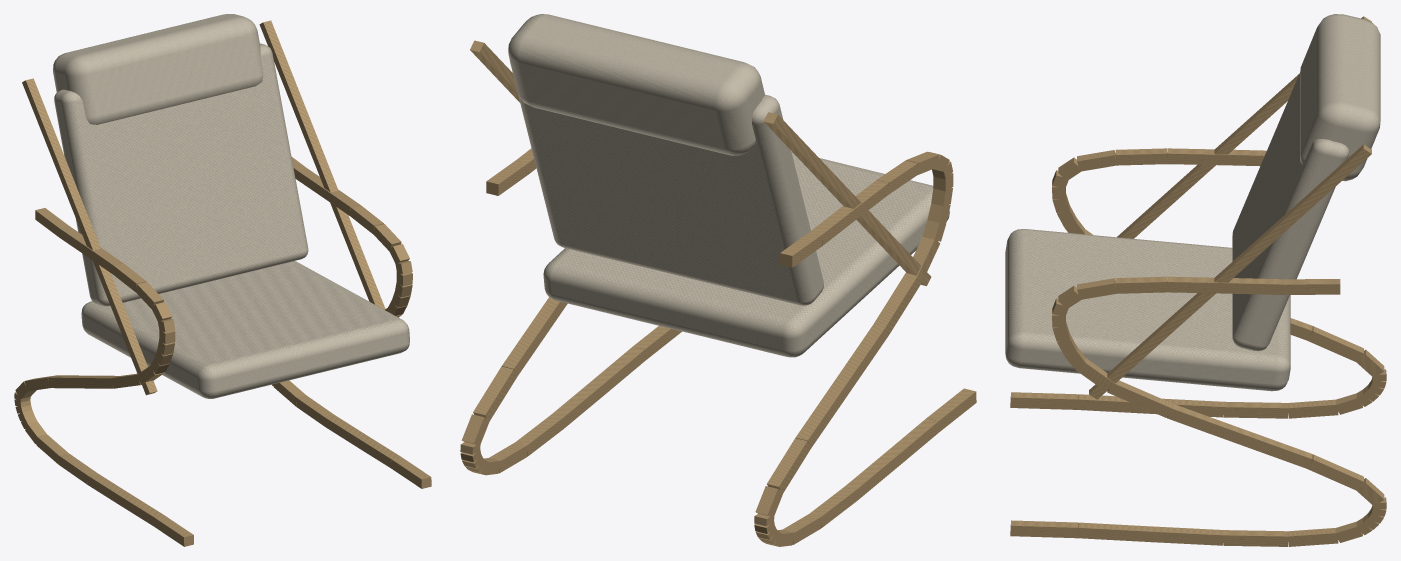
The model's file is poang.glb.
The picture shows the model from 3 angles, left to right: view 1: azimuth 30°, elevation 25°; view 2: azimuth 150°, elevation 25°; view 3: azimuth 270°, elevation 25°; orthographic projection. The views are drawn at different scales.
Visible parts, largest first — view 1: POÄNG Bentwood armchair; view 2: POÄNG Bentwood armchair; view 3: POÄNG Bentwood armchair.
Boxes of the visible parts, x1=… form: POÄNG Bentwood armchair: x1=14, y1=14, x2=431, y2=546; POÄNG Bentwood armchair: x1=460, y1=14, x2=976, y2=546; POÄNG Bentwood armchair: x1=1005, y1=14, x2=1386, y2=546.
Size of the model in its own units: 0.68 by 1 by 0.82.
2 materials, 2 textured.
